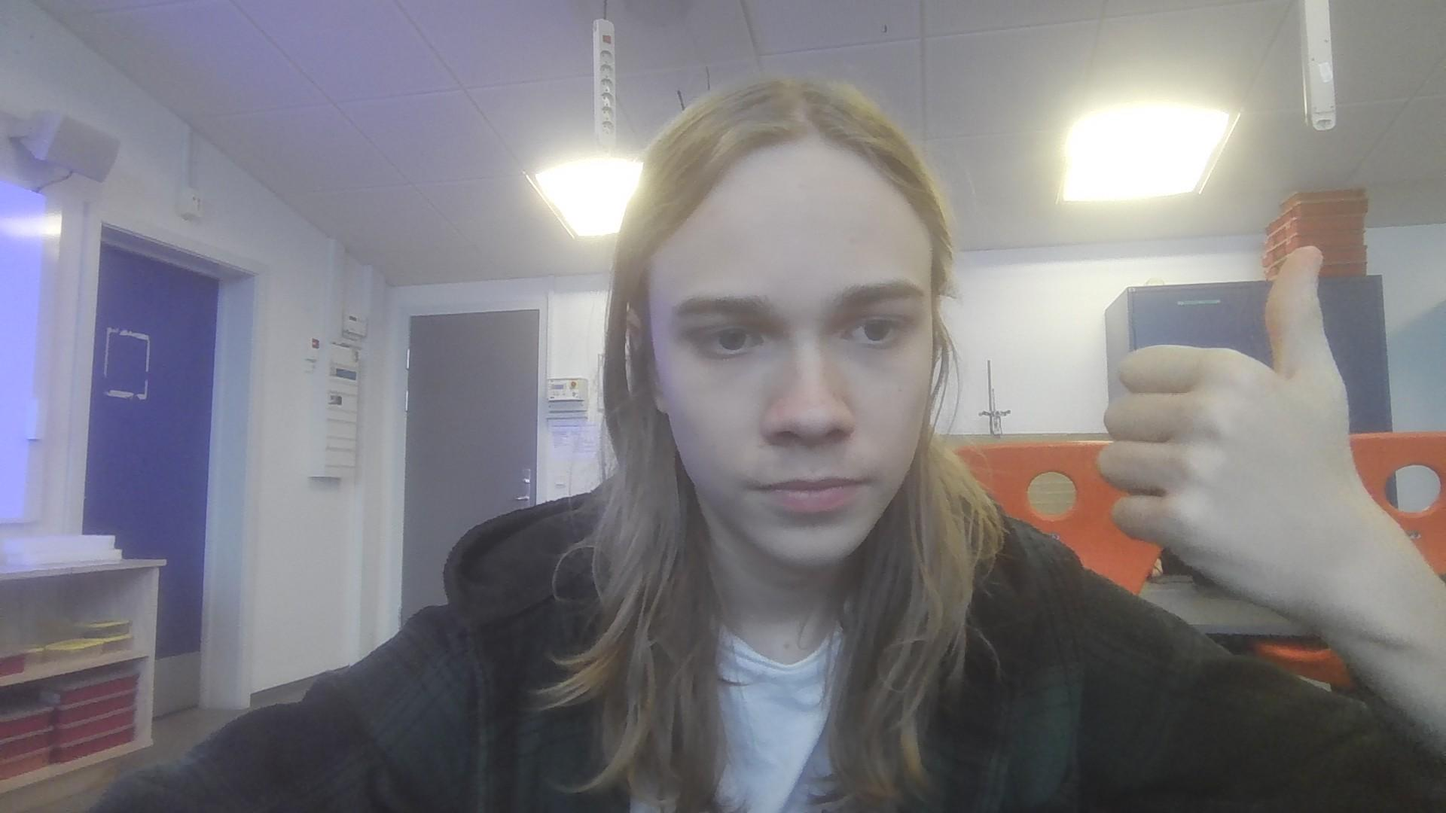thumbs up: (1100, 238, 1362, 597)
